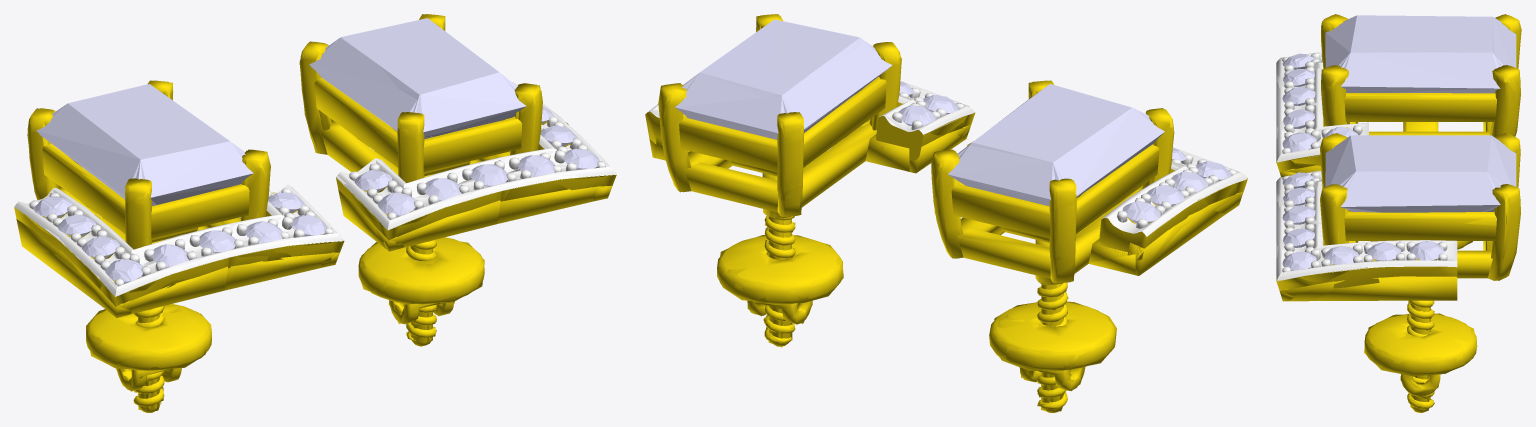
The picture shows the model from 3 angles, left to right: view 1: azimuth 30°, elevation 25°; view 2: azimuth 150°, elevation 25°; view 3: azimuth 270°, elevation 25°; orthographic projection. The views are drawn at different scales.
Visible parts, largest first — view 1: highPolyMesh, lowPolyMesh; view 2: highPolyMesh, lowPolyMesh; view 3: highPolyMesh, lowPolyMesh.
Part boxes in pixels (bbox=[...]): highPolyMesh: bbox=[14, 14, 616, 412]; lowPolyMesh: bbox=[14, 14, 616, 411]; highPolyMesh: bbox=[645, 14, 1247, 412]; lowPolyMesh: bbox=[649, 14, 1247, 411]; highPolyMesh: bbox=[1276, 14, 1520, 412]; lowPolyMesh: bbox=[1276, 14, 1521, 411].
Bounding box in the file's own units: 0.0206 × 0.0114 × 0.00973.
